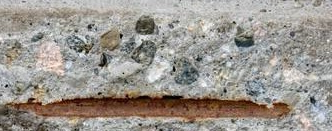Exposed reinforcement: (4, 96, 291, 119)
Spalling: (1, 8, 332, 131)
